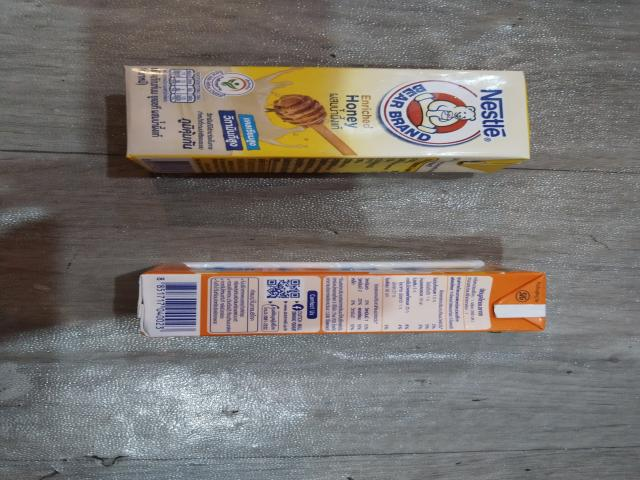drink_box: (109, 60, 540, 176), (128, 258, 555, 345)
